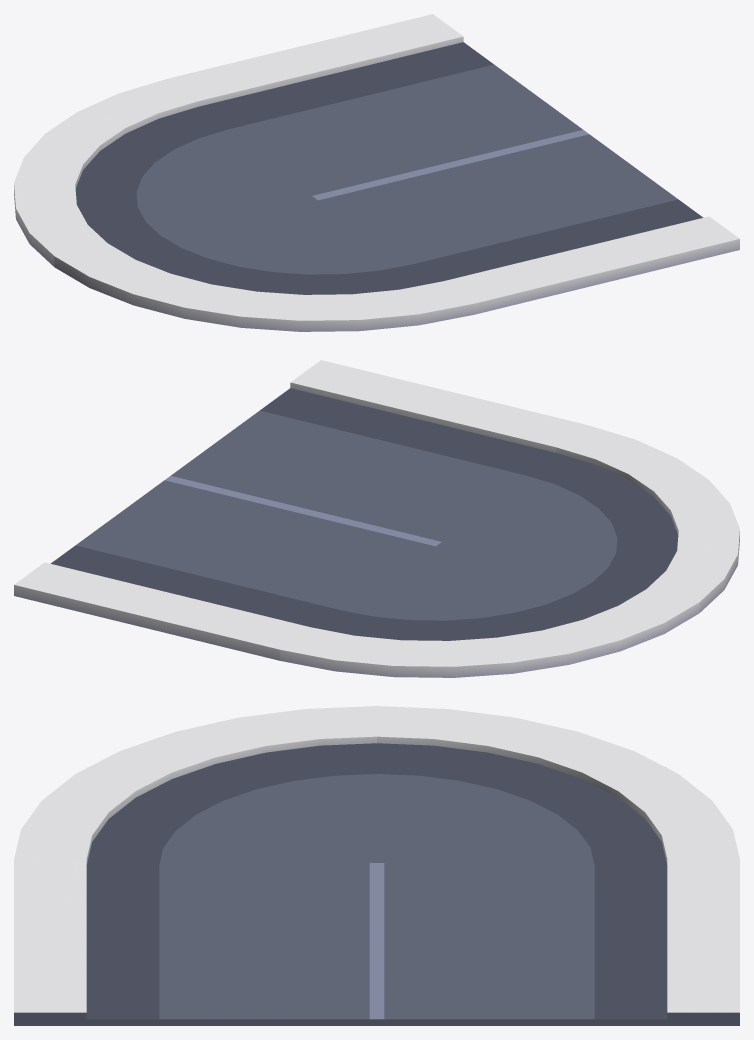
The model's file is road-end-round.glb.
The picture shows the model from 3 angles, top to bottom: view 1: azimuth 30°, elevation 25°; view 2: azimuth 150°, elevation 25°; view 3: azimuth 270°, elevation 25°; orthographic projection. The views are drawn at different scales.
Parts seen in each view (by area): view 1: road-end-round; view 2: road-end-round; view 3: road-end-round.
Boxes of the visible parts, x1,y1,x2,y2 form: road-end-round: [14, 14, 739, 331]; road-end-round: [14, 360, 739, 677]; road-end-round: [14, 706, 739, 1025].
Bounding box in the file's own units: 1 × 0.02 × 1.
1 material, 1 textured.
